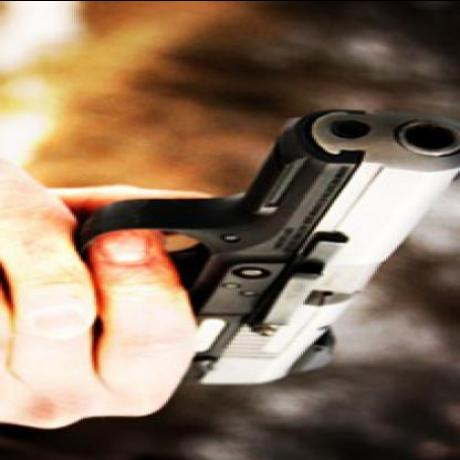weapon: (76, 106, 456, 383)
